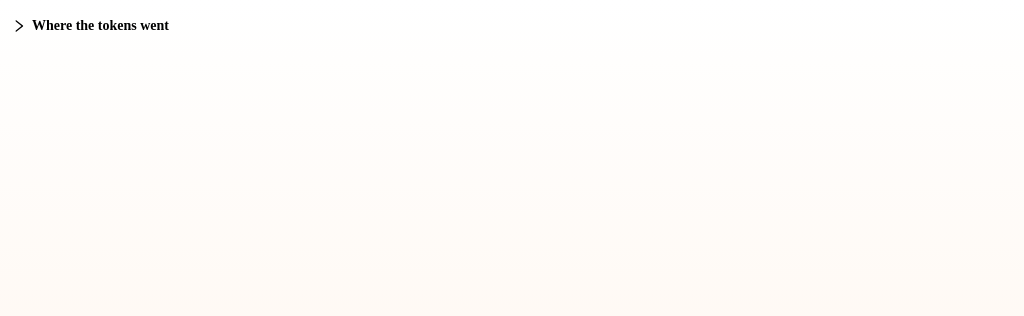
Test: TokensPanel › starts collapsed and opens to buckets, models, largest results, injected text and tips
Later steps or results of the test are not shown.
Click the button "Where the tokens went" at (90, 26), box [12,18,169,34]
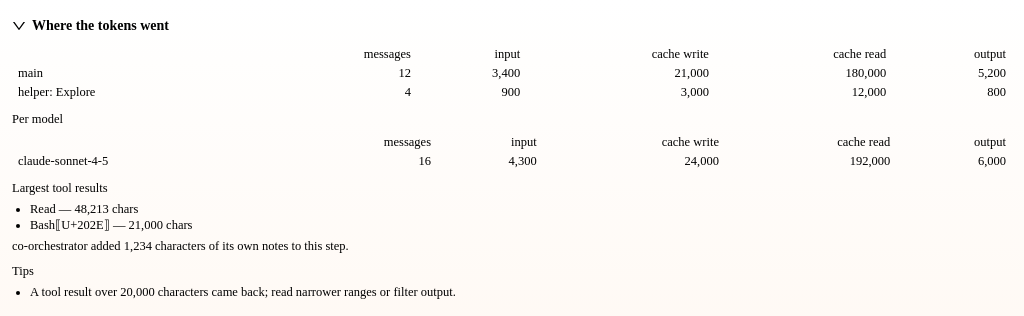
Now the row with test id "tokens-bucket" shows "main", box [18,66,43,80]
Now the row with test id "tokens-bucket" shows "180,000", box [846,66,886,80]
Now the row with test id "tokens-bucket" shows "helper: Explore", box [18,85,95,99]
